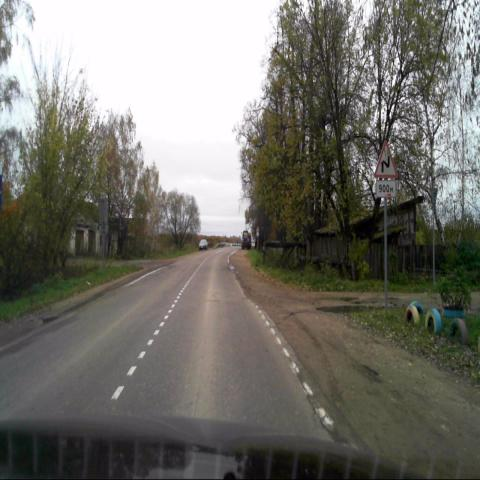1_12: (374, 141, 397, 177)
8_1_1: (376, 181, 396, 198)
